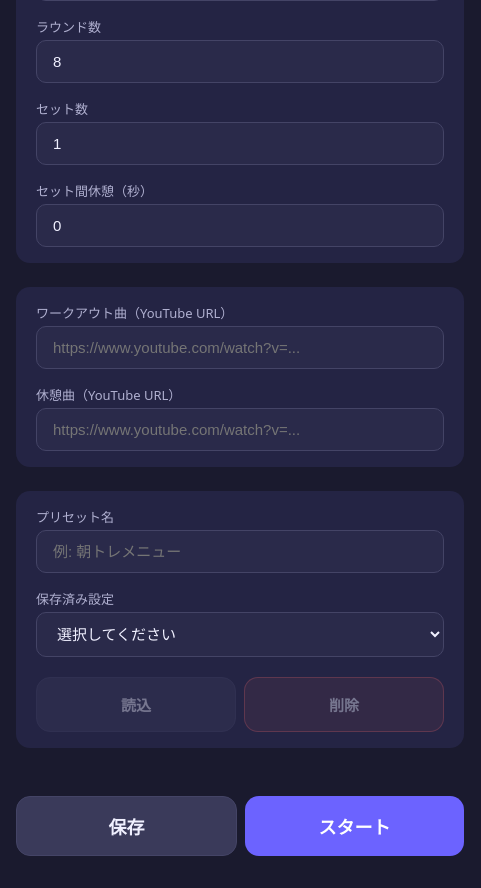
Test: App 統合テスト › プリセット削除の書き込み失敗時は成功表示しない
(page scrolled)
Select "削除失敗テスト" in the dropdown labelled "保存済み設定" at (240, 634), box [36,612,444,657]
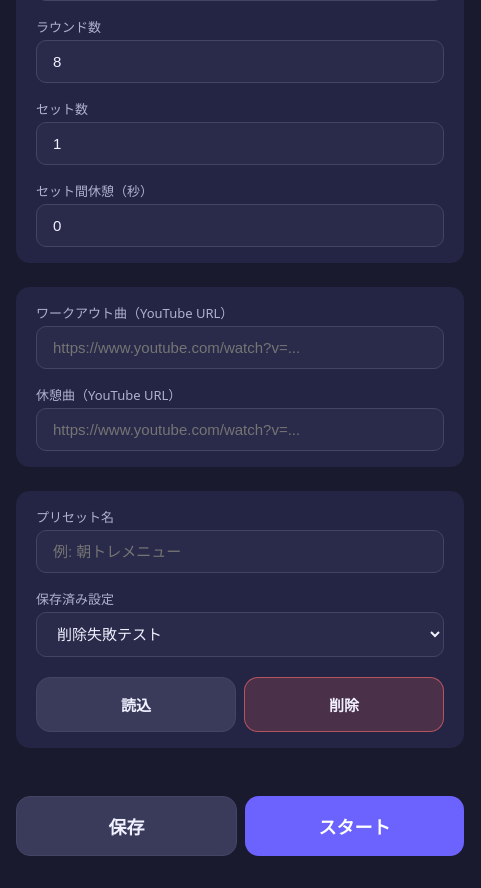
Click the button "削除" at (344, 704), box [244,677,444,732]
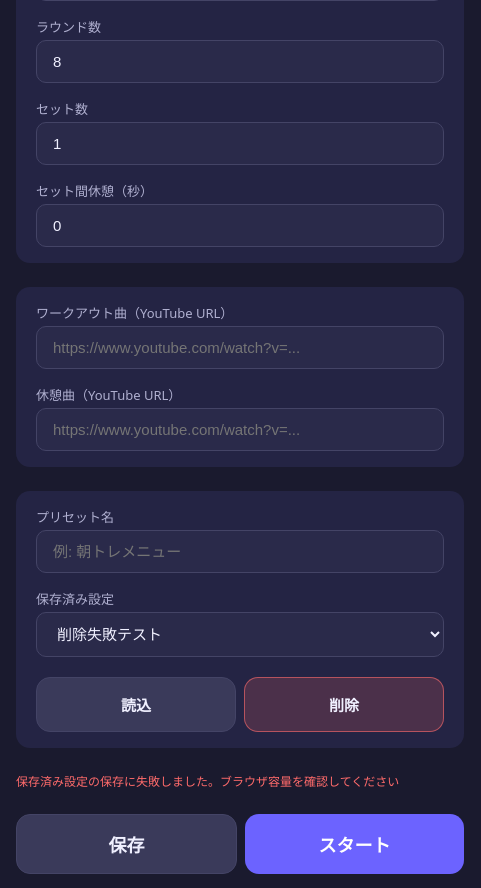
expect the text "保存済み設定の保存に失敗しました。ブラウザ容量を確認してください" is shown: met, box [16,772,464,790]
